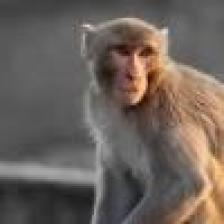monkey: (65, 11, 222, 222)
